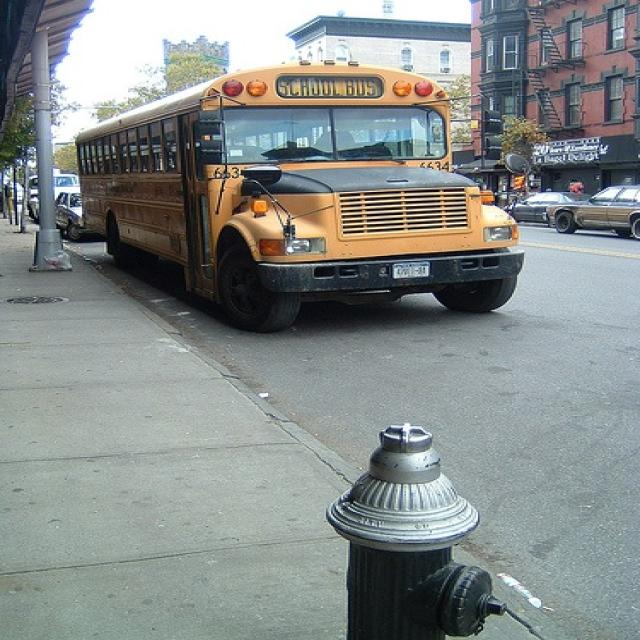bus: (73, 62, 527, 334)
car: (546, 184, 640, 243)
